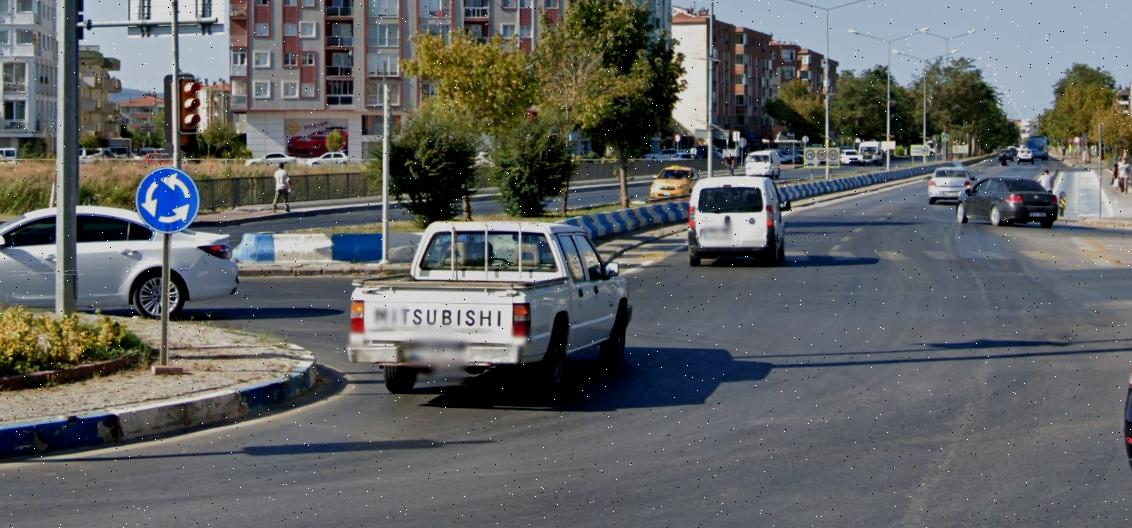crossroads: (137, 169, 202, 236)
